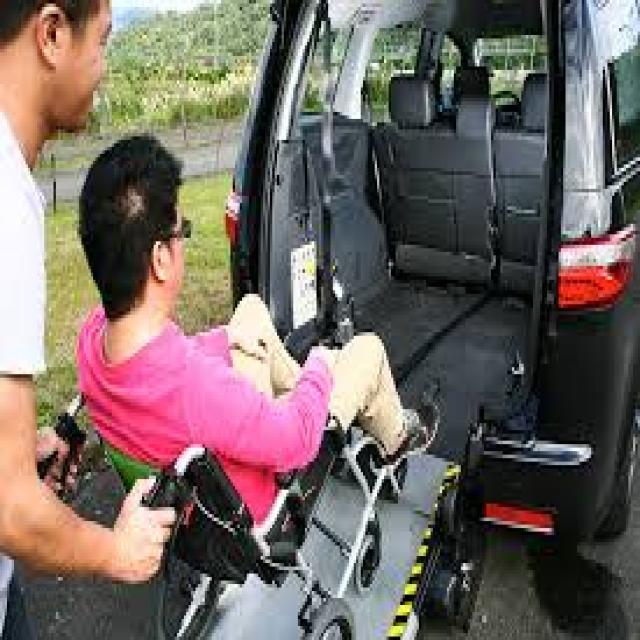wheelchairs: (37, 312, 414, 636)
